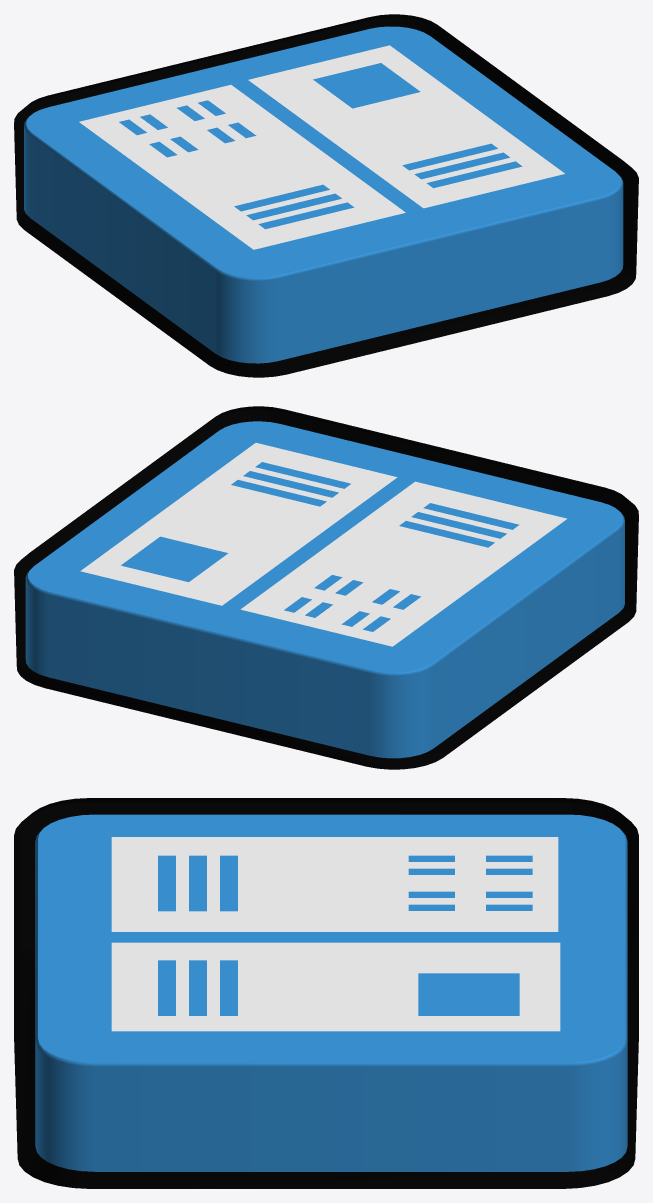
The model's file is UPS.obj.
3 renders of one model, top to bottom at view 1: azimuth 30°, elevation 25°; view 2: azimuth 150°, elevation 25°; view 3: azimuth 270°, elevation 25°, orthographic. The views are drawn at different scales.
Parts seen in each view (by area): view 1: UPS; view 2: UPS; view 3: UPS.
Boxes of the visible parts, x1,y1,x2,y2 form: UPS: [14, 14, 638, 377]; UPS: [14, 406, 638, 769]; UPS: [14, 798, 638, 1188].
Size of the model in its own units: 1.06 by 0.2484 by 1.06.
